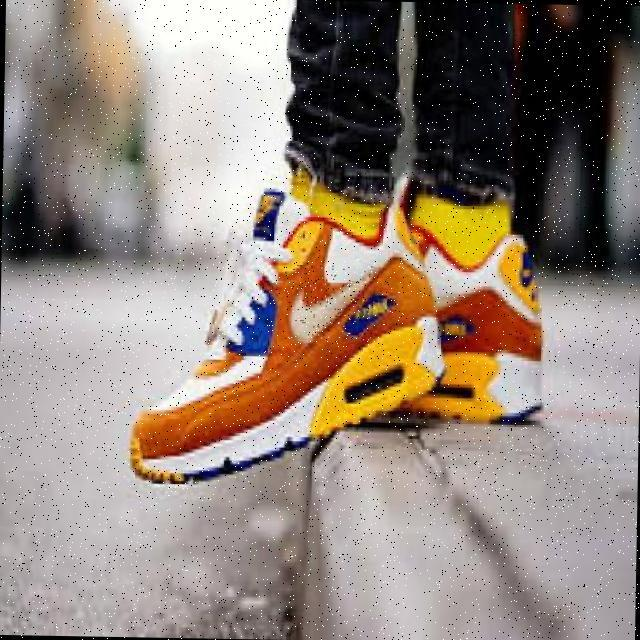Nike: (284, 265, 376, 341)
